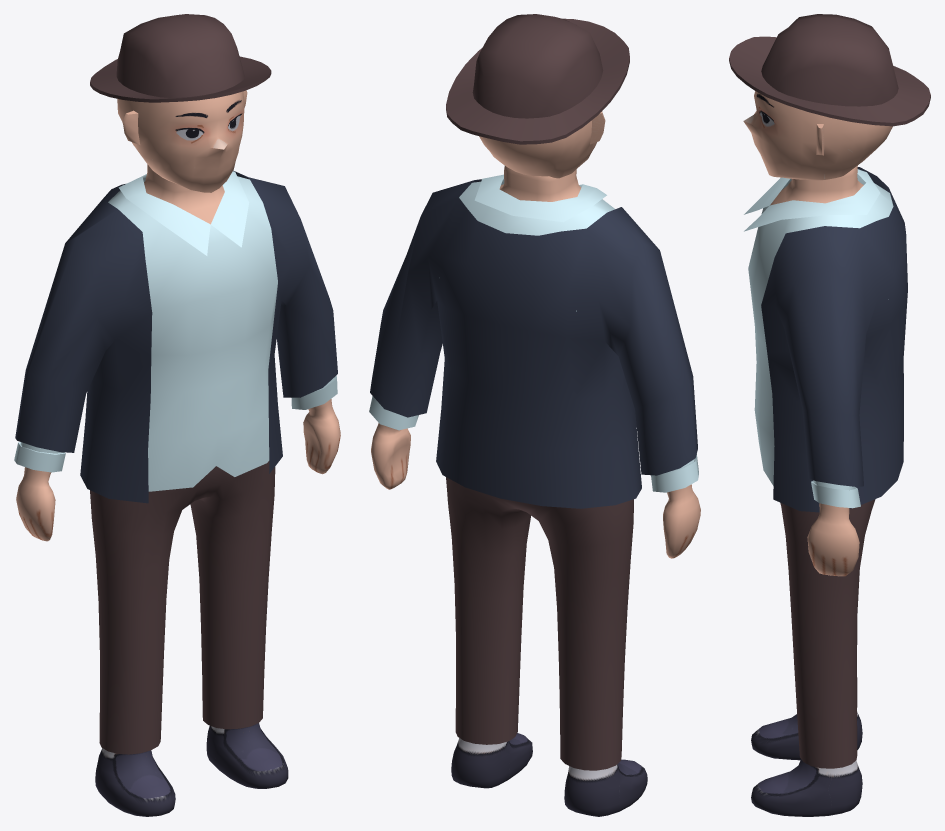
Rendered from boss v2.fbx.
3 renders of one model, left to right at view 1: azimuth 30°, elevation 25°; view 2: azimuth 150°, elevation 25°; view 3: azimuth 270°, elevation 25°, orthographic.
Parts seen in each view (by area): view 1: Roundcube.005, Roundcube.002, Roundcube.003, Roundcube.001, Roundcube.004, Roundcube; view 2: Roundcube.005, Roundcube.003, Roundcube.004, Roundcube.001, Roundcube.002, Roundcube; view 3: Roundcube.005, Roundcube.004, Roundcube.003, Roundcube.001, Roundcube.002, Roundcube.
Part boxes in pixels (x1,y1,x2,y2): Roundcube.005: [15, 170, 337, 503]; Roundcube.002: [14, 171, 337, 491]; Roundcube.003: [90, 461, 275, 754]; Roundcube.001: [16, 164, 340, 816]; Roundcube.004: [90, 14, 271, 102]; Roundcube: [117, 90, 247, 192]; Roundcube.005: [370, 179, 697, 508]; Roundcube.003: [446, 477, 633, 770]; Roundcube.004: [446, 14, 629, 144]; Roundcube.001: [371, 165, 700, 816]; Roundcube.002: [369, 174, 698, 492]; Roundcube: [479, 111, 605, 178]; Roundcube.005: [761, 167, 907, 512]; Roundcube.004: [729, 14, 930, 126]; Roundcube.003: [780, 499, 875, 768]; Roundcube.001: [751, 165, 863, 816]; Roundcube.002: [744, 169, 893, 508]; Roundcube: [743, 91, 892, 180].
Bounding box in the file's own units: 249 × 561 × 136.
5 materials, 1 textured.
